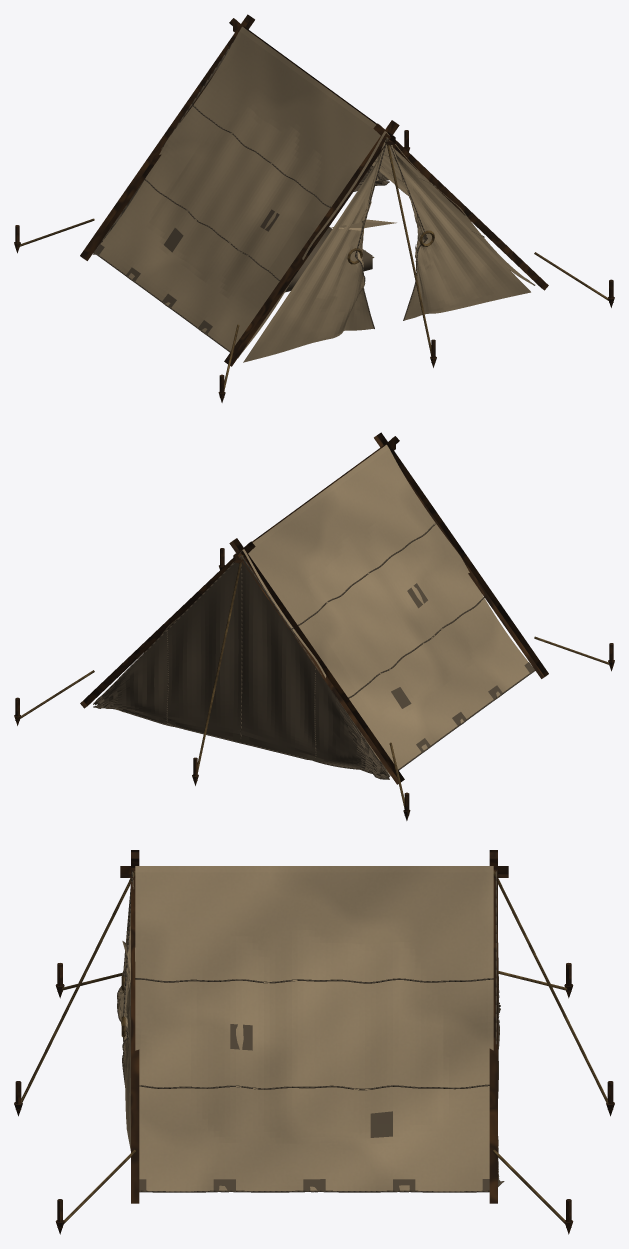
Rendered from medieval_field_tent_3d_runtime.glb.
3 renders of one model, top to bottom at view 1: azimuth 30°, elevation 25°; view 2: azimuth 150°, elevation 25°; view 3: azimuth 270°, elevation 25°, orthographic. The views are drawn at different scales.
Parts seen in each view (by area): view 1: FIELD_TENT_CLOTH_ROOF_-1, FIELD_TENT_CLOTH_FRONT_FLAP_-1, FIELD_TENT_CLOTH_FRONT_FLAP_1, FIELD_TENT_WOOD_DARK_BATCH, FIELD_TENT_CANVAS_DARK_BATCH, FIELD_TENT_ROPE_BATCH, FIELD_TENT_CLOTH_ROOF_1; view 2: FIELD_TENT_CLOTH_ROOF_-1, FIELD_TENT_CLOTH_BACK, FIELD_TENT_WOOD_DARK_BATCH, FIELD_TENT_CANVAS_DARK_BATCH, FIELD_TENT_ROPE_BATCH; view 3: FIELD_TENT_CLOTH_ROOF_1, FIELD_TENT_WOOD_DARK_BATCH, FIELD_TENT_CANVAS_DARK_BATCH, FIELD_TENT_ROPE_BATCH, FIELD_TENT_CLOTH_FRONT_FLAP_1.
Boxes of the visible parts, <box> form: FIELD_TENT_CLOTH_ROOF_-1: <box>99,26,386,357</box>; FIELD_TENT_CLOTH_FRONT_FLAP_-1: <box>243,139,396,362</box>; FIELD_TENT_CLOTH_FRONT_FLAP_1: <box>389,140,530,320</box>; FIELD_TENT_WOOD_DARK_BATCH: <box>14,14,614,402</box>; FIELD_TENT_CANVAS_DARK_BATCH: <box>93,38,535,352</box>; FIELD_TENT_ROPE_BATCH: <box>19,137,608,390</box>; FIELD_TENT_CLOTH_ROOF_1: <box>243,27,534,285</box>; FIELD_TENT_CLOTH_ROOF_-1: <box>242,444,529,775</box>; FIELD_TENT_CLOTH_BACK: <box>94,557,389,779</box>; FIELD_TENT_WOOD_DARK_BATCH: <box>14,432,614,820</box>; FIELD_TENT_CANVAS_DARK_BATCH: <box>93,523,535,779</box>; FIELD_TENT_ROPE_BATCH: <box>20,555,609,808</box>; FIELD_TENT_CLOTH_ROOF_1: <box>135,866,493,1191</box>; FIELD_TENT_WOOD_DARK_BATCH: <box>14,850,614,1234</box>; FIELD_TENT_CANVAS_DARK_BATCH: <box>117,871,499,1192</box>; FIELD_TENT_ROPE_BATCH: <box>20,871,608,1223</box>; FIELD_TENT_CLOTH_FRONT_FLAP_1: <box>122,873,133,1150</box>.
Size of the model in its own units: 6.8 by 3.47 by 7.21.
Materials: 4 (4 with a texture image).
